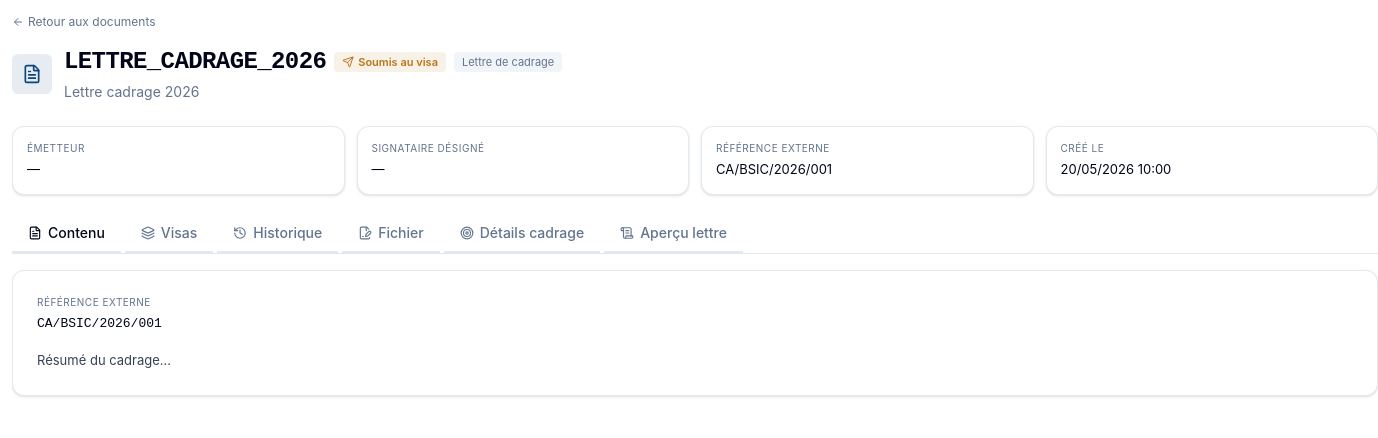
Test: DocumentDetailPage (Lot 8.2.B P2) › 6. Tab Visas : tableau + badges statut (EN_ATTENTE / VISE)
Expected: the heading "LETTRE_CADRAGE_2026" is shown, x1=64 y1=46 x2=326 y2=78
Click the tab with test id "tab-visas" at [169, 234], box x1=125 y1=214 x2=213 y2=252
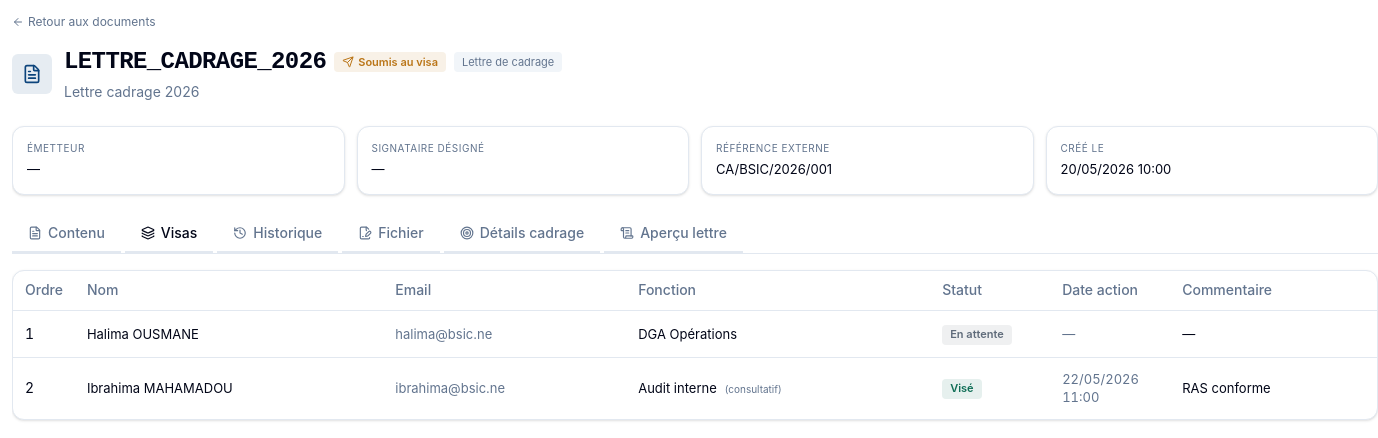
Expected: the element with test id "visas-table" is shown, x1=12 y1=270 x2=1377 y2=420
Expected: the text "Halima OUSMANE" is shown, x1=75 y1=310 x2=383 y2=357
Expected: the text "Ibrahima MAHAMADOU" is shown, x1=75 y1=357 x2=383 y2=419
